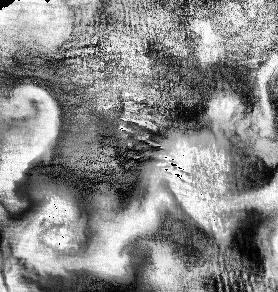AE: (17, 196, 94, 276)
